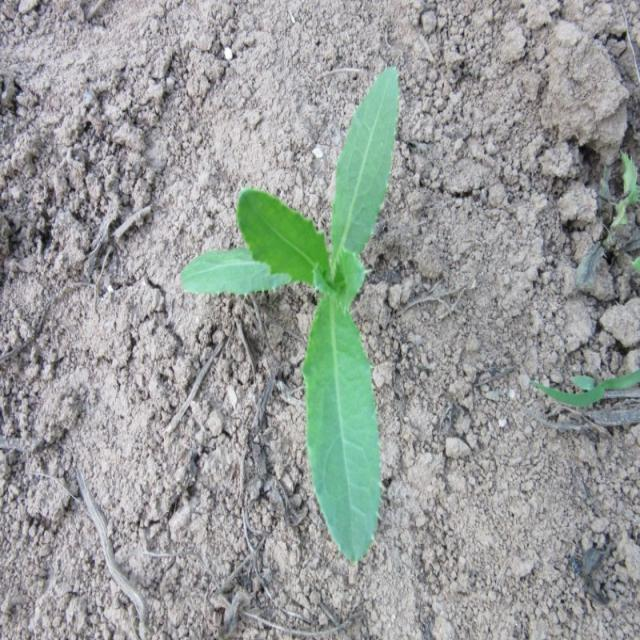cs: (180, 65, 401, 562)
